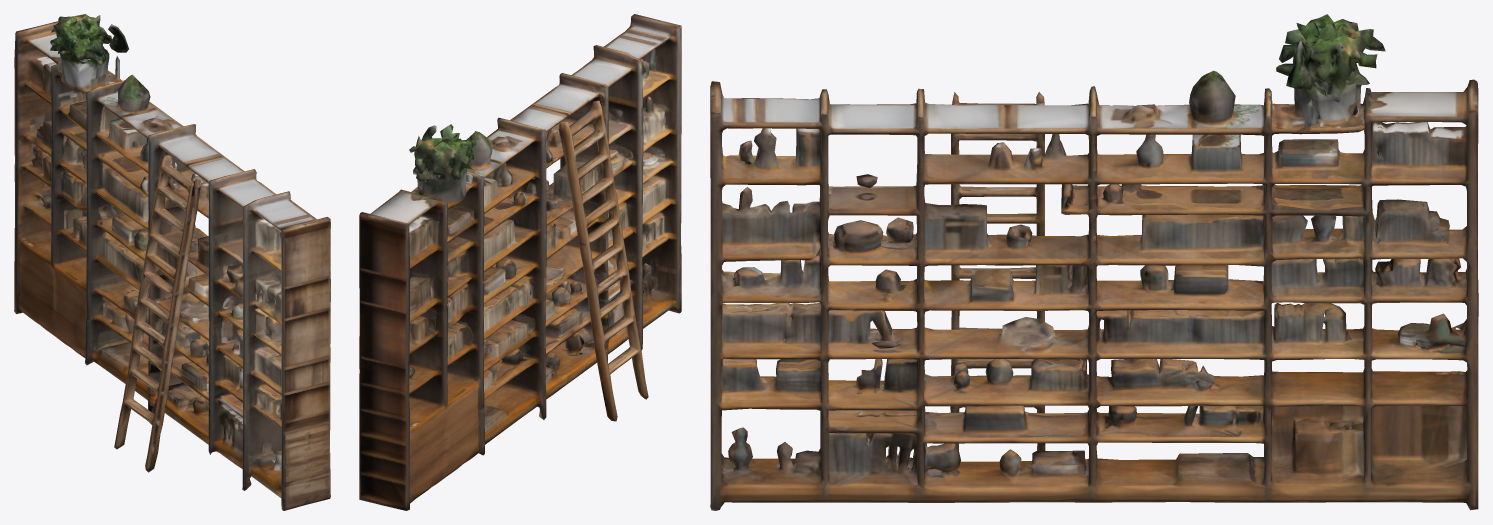
File: A bookshelf.gltf
The picture shows the model from 3 angles, left to right: view 1: azimuth 30°, elevation 25°; view 2: azimuth 150°, elevation 25°; view 3: azimuth 270°, elevation 25°; orthographic projection. The views are drawn at different scales.
Visible parts, largest first — view 1: Mesh1.0; view 2: Mesh1.0; view 3: Mesh1.0.
Part boxes in pixels (<box>): Mesh1.0: <box>14,14,330,510</box>; Mesh1.0: <box>359,14,681,510</box>; Mesh1.0: <box>710,14,1478,510</box>.
Size of the model in its own units: 0.4376 by 1.39 by 2.
Materials: 1 (1 with a texture image).
